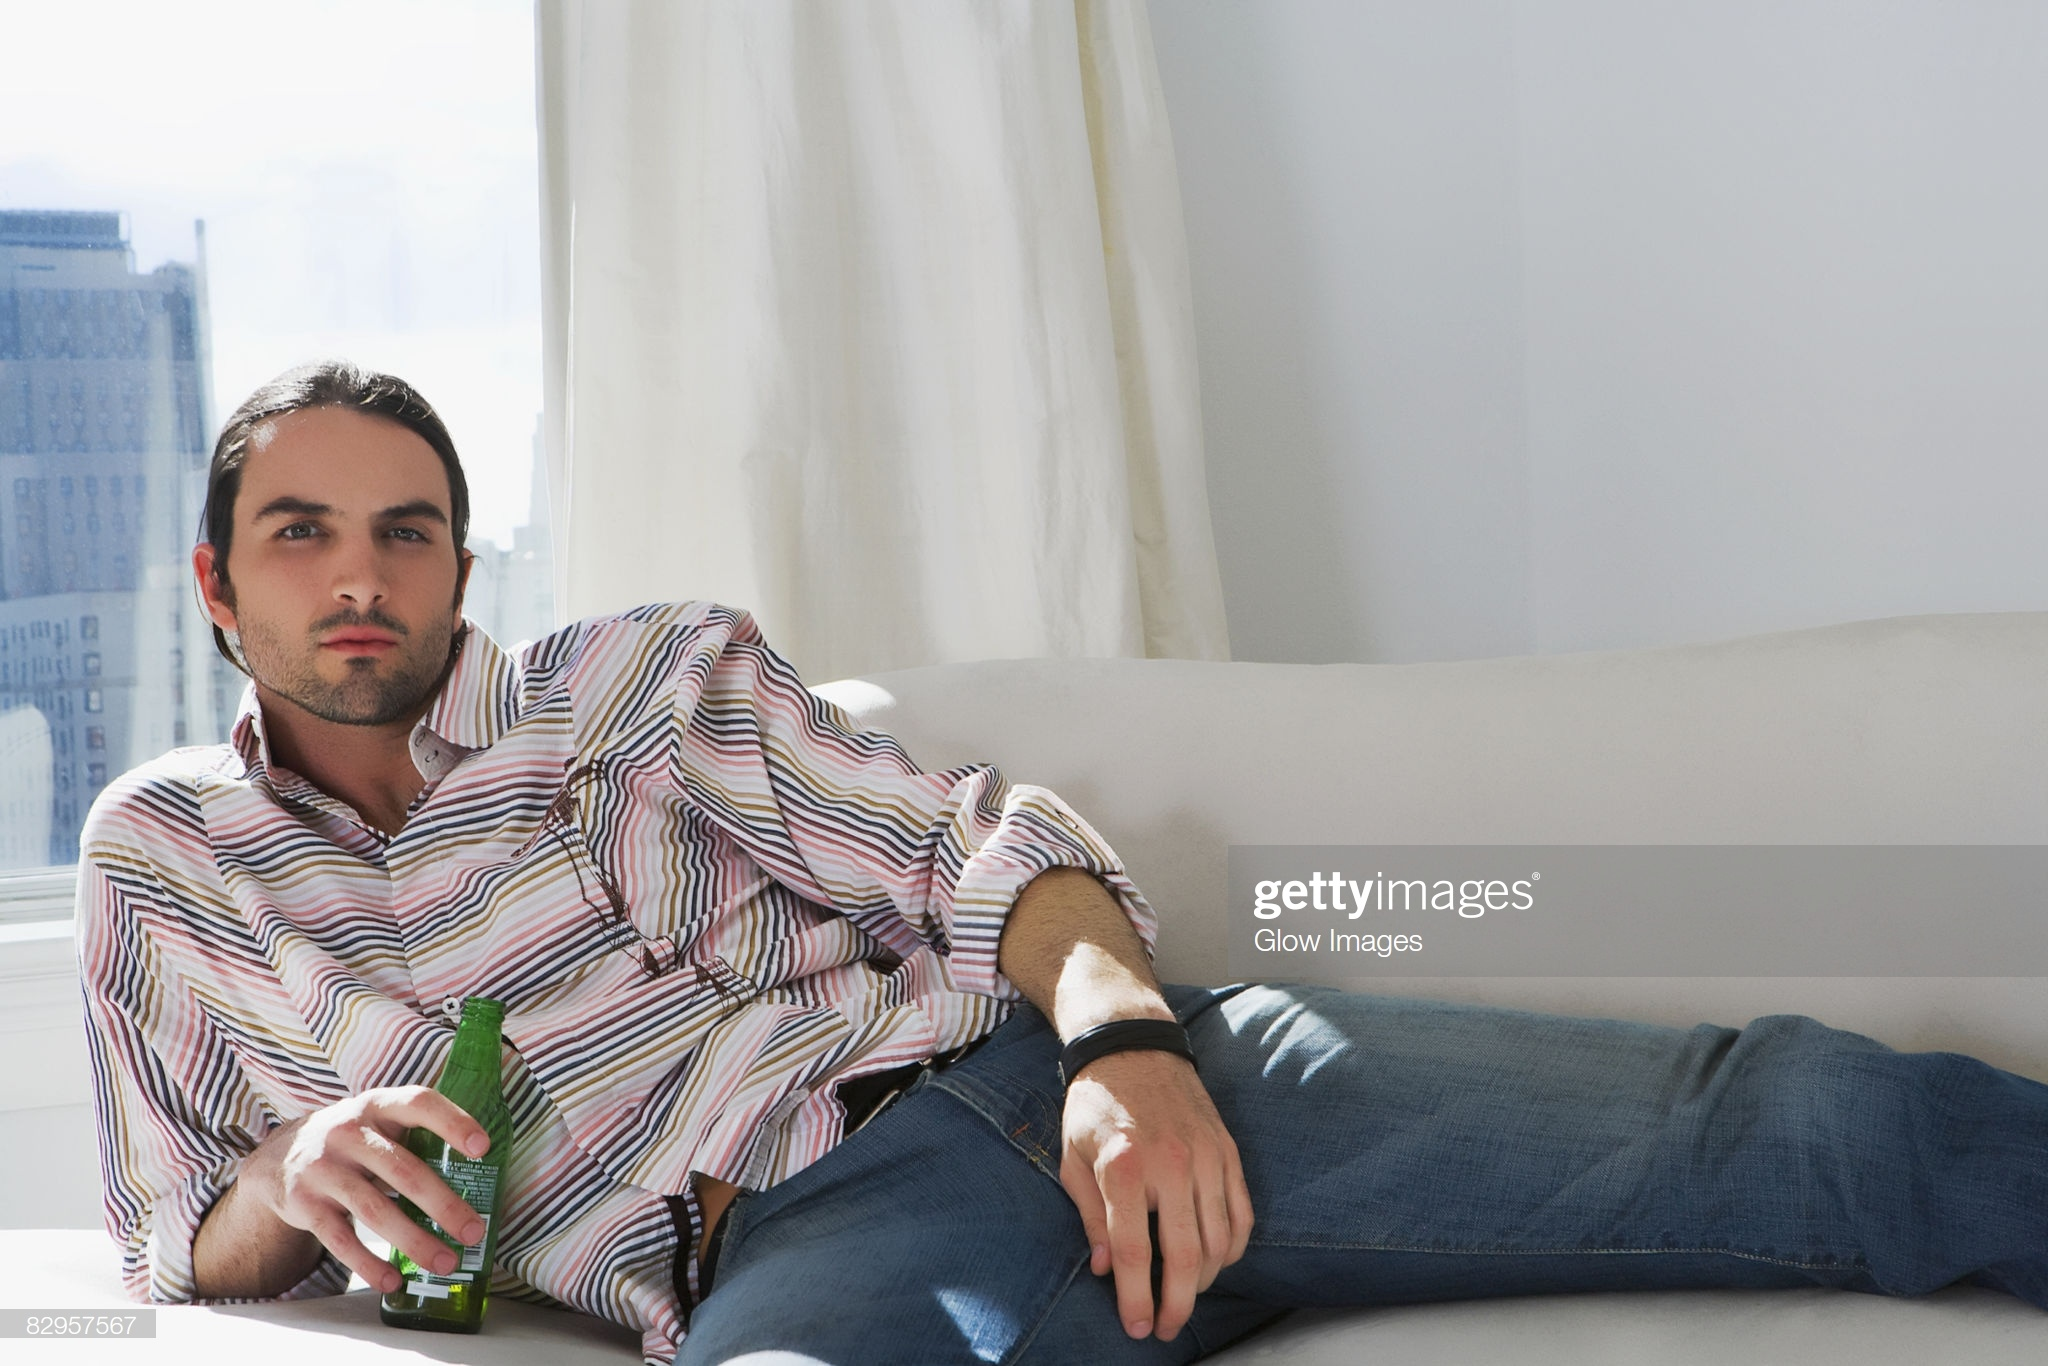beerBottle: (378, 992, 527, 1331)
